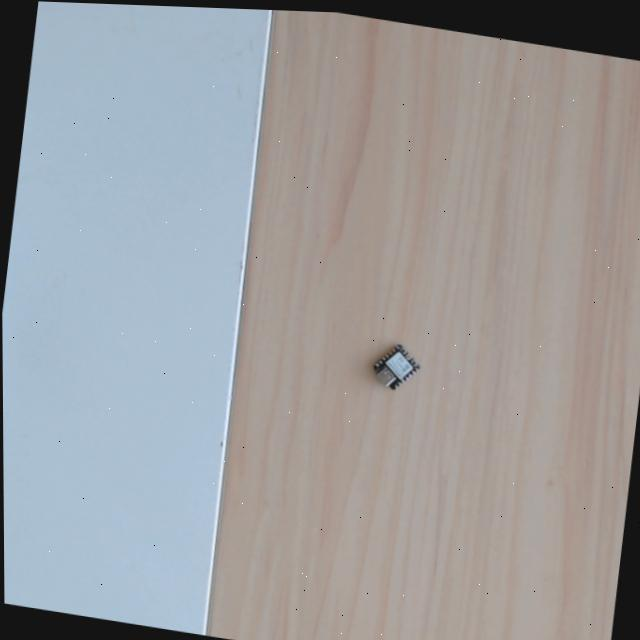ESP32C3-Xiao: (367, 340, 421, 395)
